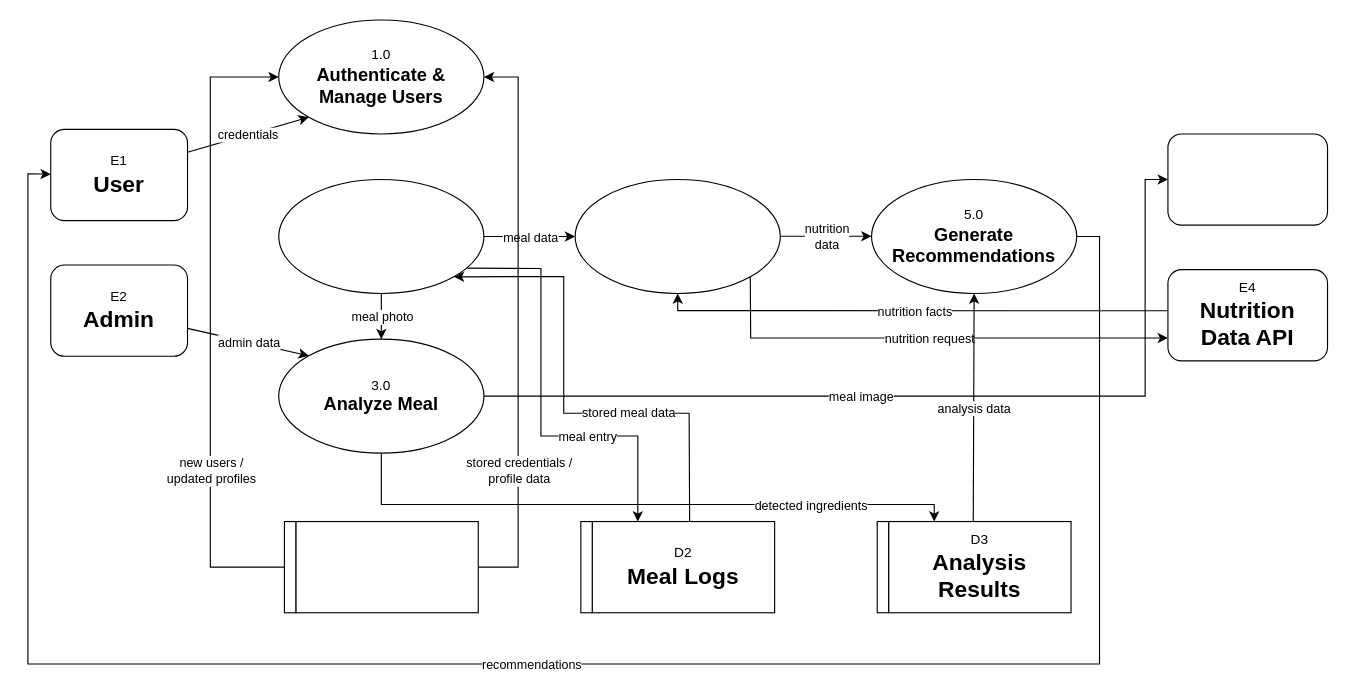
Image size: 1347x693. Some labels were removed from this diagram. The shapes that lost their labels are listed below. From the top down, each one's centre as x and y in pixels, then its label:
point 1247,179: E3 AI Vision Service
point 381,236: 2.0 Capture Meal Input
point 677,236: 4.0 Compute Nutrition
point 386,566: D1 Users/Profiles
